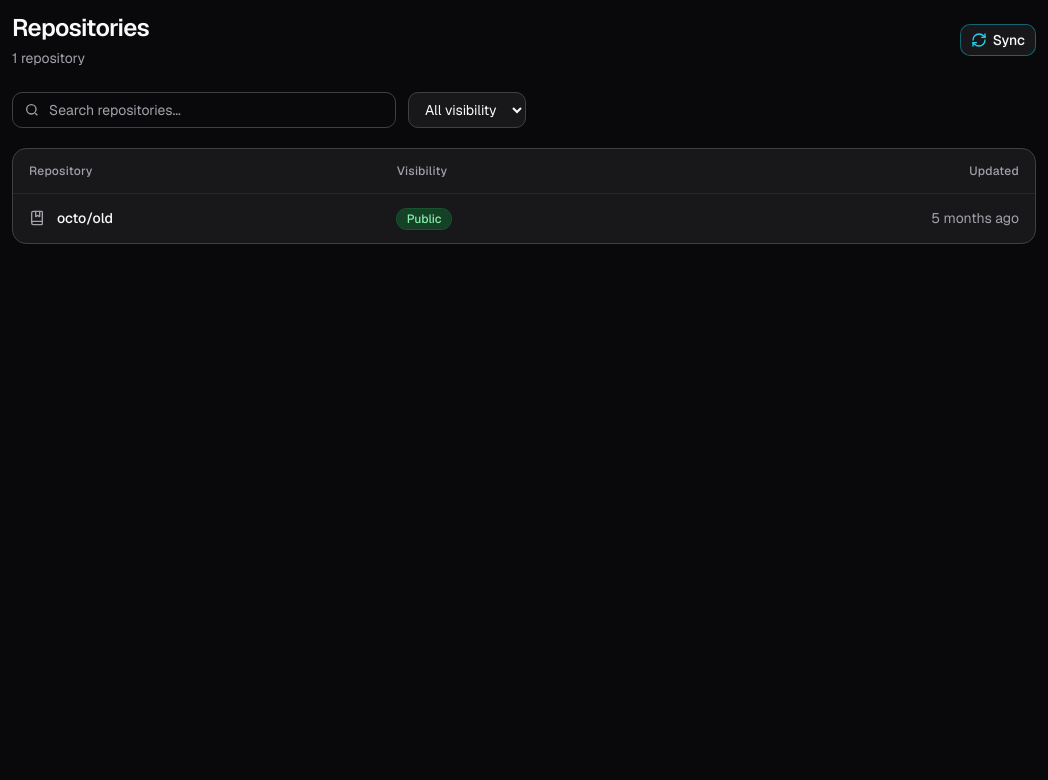
Test: sync writes the query cache for the active list › replaces the repository cache from the sync response
expect the text "octo/old" is shown: met, box [57,208,113,228]
Click the button with aria-label "Sync repositories": (998, 40) [960,24,1036,56]
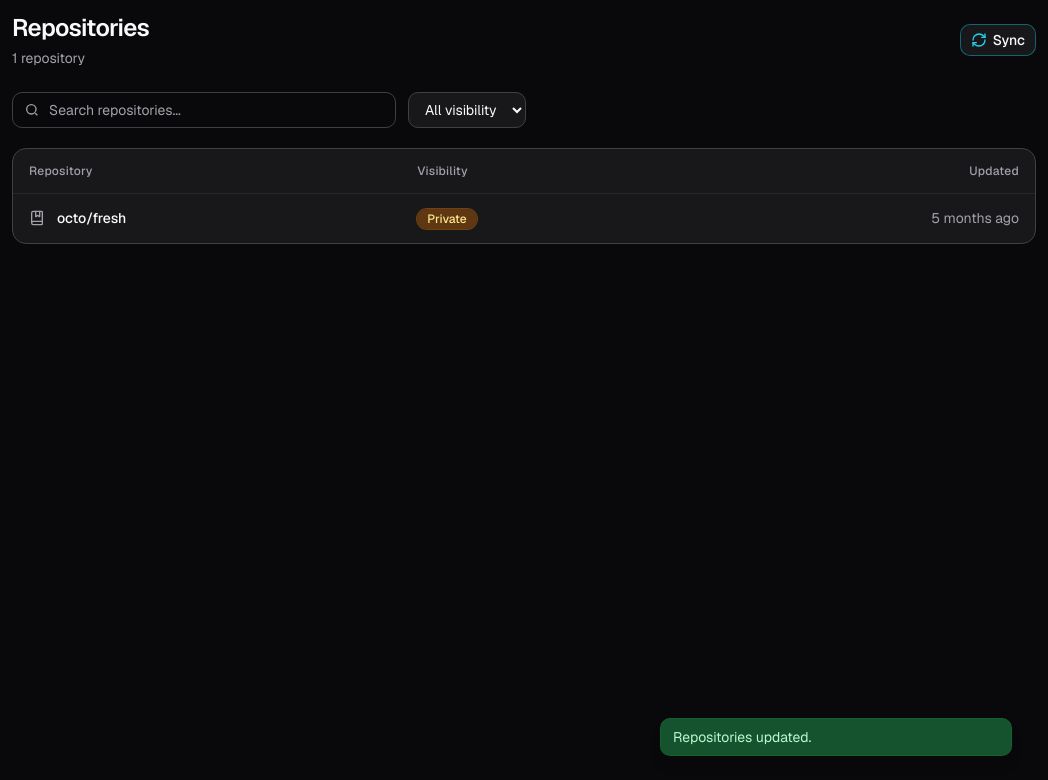
expect the text "octo/fresh" is shown: met, box [57,208,126,228]
expect the link "octo/old" is gone: met
expect the text "Repositories updated." is shown: met, box [660,718,1012,756]
